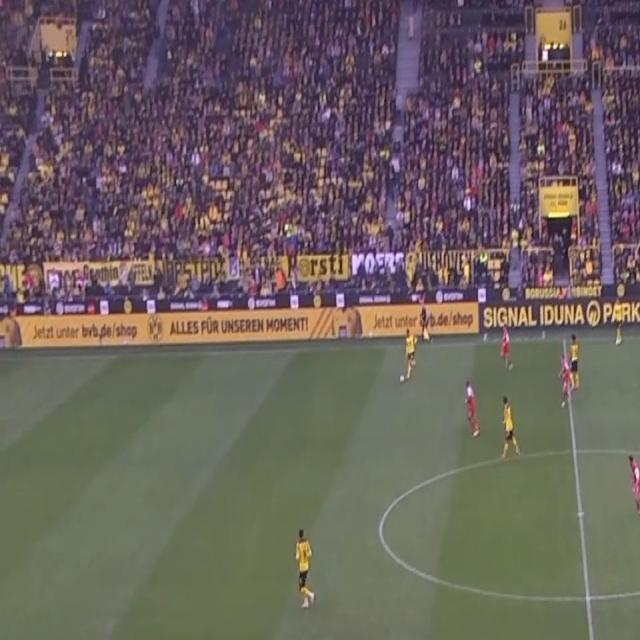ball: (400, 374, 405, 384)
